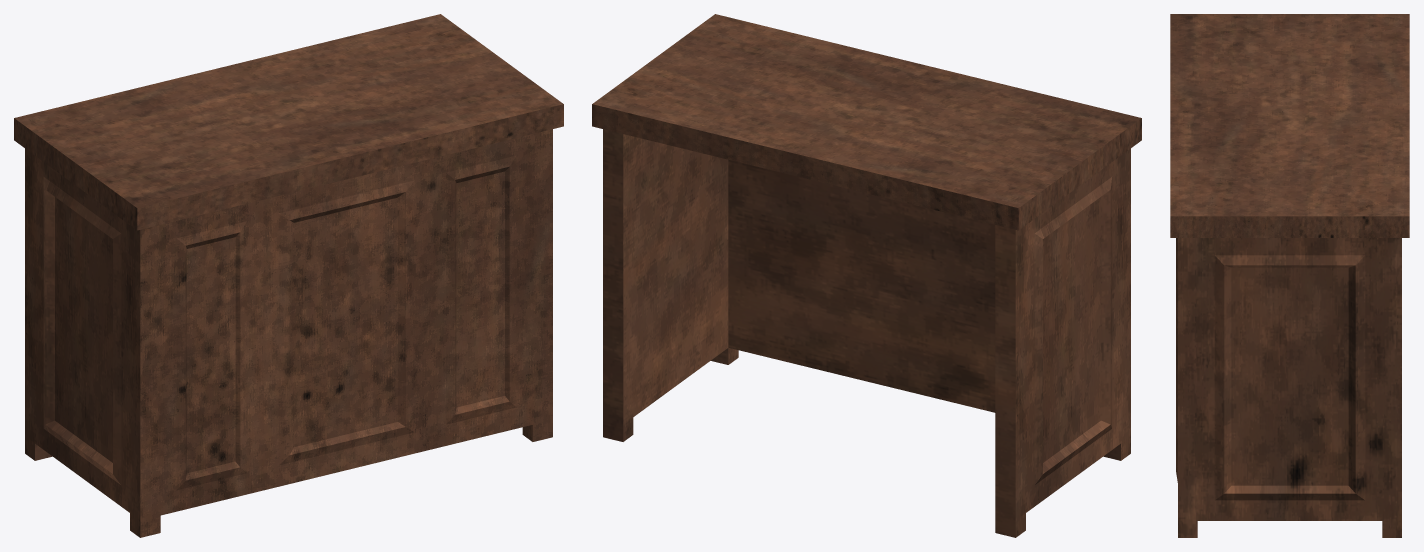
The model's file is 장애물_교탁.fbx.
3 renders of one model, left to right at view 1: azimuth 30°, elevation 25°; view 2: azimuth 150°, elevation 25°; view 3: azimuth 270°, elevation 25°, orthographic. The views are drawn at different scales.
Parts seen in each view (by area): view 1: 교탁; view 2: 교탁; view 3: 교탁.
Part boxes in pixels (bbox=[...]): 교탁: bbox=[14, 14, 563, 537]; 교탁: bbox=[592, 14, 1141, 537]; 교탁: bbox=[1170, 14, 1409, 537].
Bounding box in the file's own units: 200 × 150 × 100.
